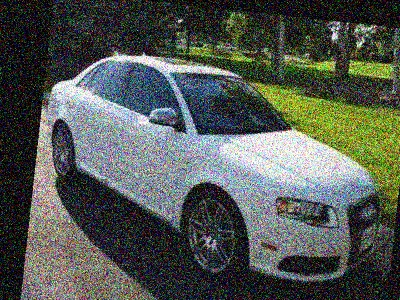car: (25, 42, 400, 300)
